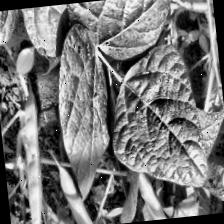ALS: (104, 34, 210, 194), (52, 21, 116, 203)
